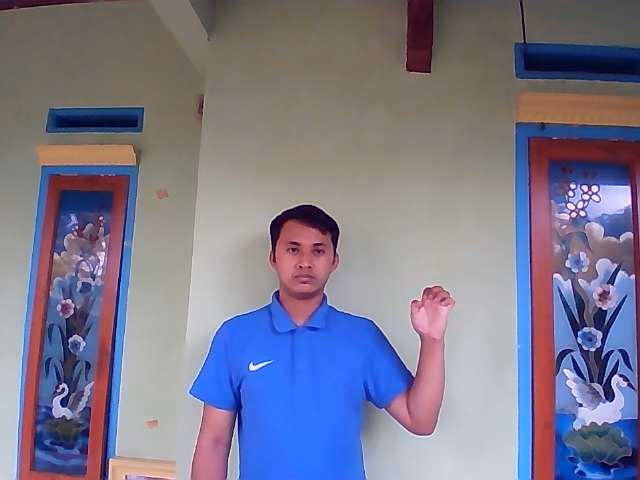E: (408, 284, 456, 340)
